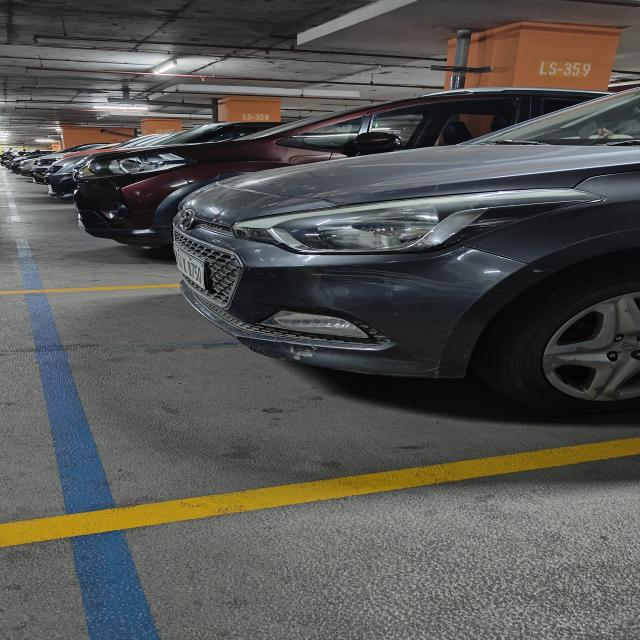scratch: (306, 258, 500, 305), (344, 354, 444, 374), (519, 265, 545, 278)
